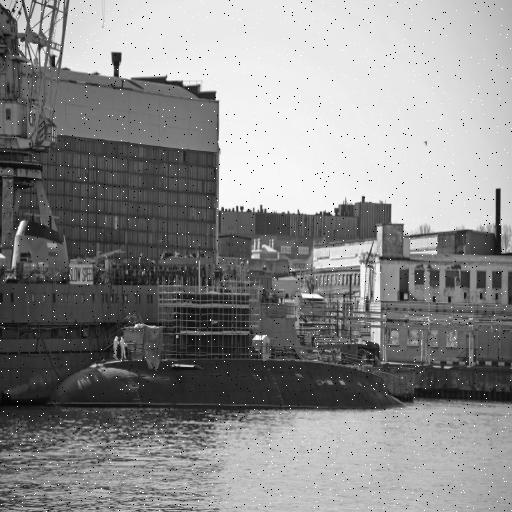submarine: (46, 277, 431, 406)
